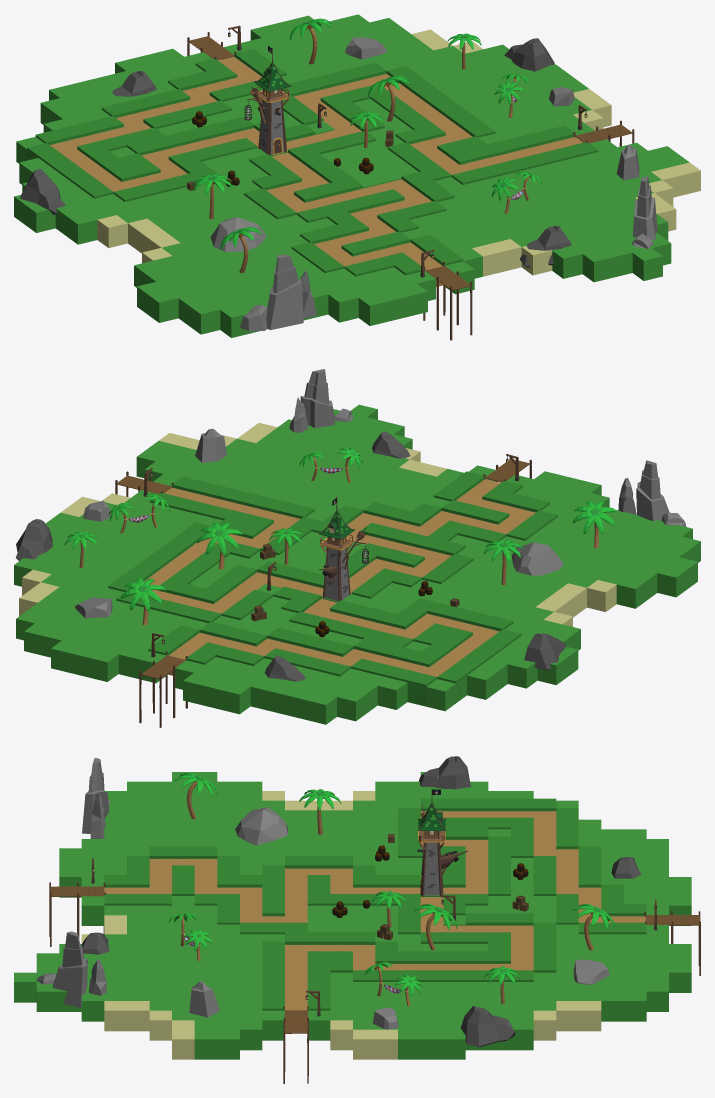
File: small island 2mer.fbx
3 renders of one model, top to bottom at view 1: azimuth 30°, elevation 25°; view 2: azimuth 150°, elevation 25°; view 3: azimuth 270°, elevation 25°, orthographic. The views are drawn at different scales.
Visible parts, largest first — view 1: Rock.009, Palm Tree, Tower, Dock.001, Barrel, Grass.439, Grass.646, Grass.608, Grass.363, Grass.595, Sand.004, Grass.437 (+13 smaller); view 2: Rock.009, Palm Tree, Tower, Dock.002, Barrel, Grass.371, Grass.369, Grass.633, Grass.147, Grass.654, Grass.285, Grass.282 (+16 smaller); view 3: Rock.009, Palm Tree, Tower, Barrel, Dock, Dock.001, Dock.002, Grass.357, Grass.020, Sand.016, Sand.018, Grass.591 (+22 smaller).
Part boxes in pixels (<box>): Rock.009: <box>17,37,657,331</box>; Palm Tree: <box>192,18,541,273</box>; Tower: <box>244,46,291,155</box>; Dock.001: <box>420,249,472,340</box>; Barrel: <box>187,99,393,190</box>; Grass.439: <box>189,301,220,334</box>; Grass.646: <box>582,249,613,282</box>; Grass.608: <box>358,293,389,325</box>; Grass.363: <box>67,211,97,244</box>; Grass.595: <box>328,289,358,322</box>; Sand.004: <box>97,215,127,247</box>; Grass.437: <box>148,290,178,322</box>; Rock.009: <box>16,369,686,681</box>; Palm Tree: <box>64,448,616,625</box>; Tower: <box>318,496,368,601</box>; Dock.002: <box>139,633,187,727</box>; Barrel: <box>251,543,459,637</box>; Grass.371: <box>616,576,646,608</box>; Grass.369: <box>657,565,687,597</box>; Grass.633: <box>88,650,118,681</box>; Grass.147: <box>377,678,407,709</box>; Grass.654: <box>307,692,336,724</box>; Grass.285: <box>426,679,455,711</box>; Grass.282: <box>467,667,496,699</box>; Rock.009: <box>36,756,641,1047</box>; Palm Tree: <box>168,773,615,1006</box>; Tower: <box>417,788,467,896</box>; Barrel: <box>332,834,528,940</box>; Dock: <box>283,990,320,1083</box>; Dock.001: <box>49,858,105,946</box>; Dock.002: <box>644,899,700,975</box>; Grass.357: <box>194,1029,217,1059</box>; Grass.020: <box>420,1029,443,1059</box>; Sand.016: <box>533,1010,556,1040</box>; Sand.018: <box>578,1001,601,1031</box>; Grass.591: <box>81,896,104,925</box>.
Size of what is drawn, in the model's own units: 2830 by 750 by 3041.
